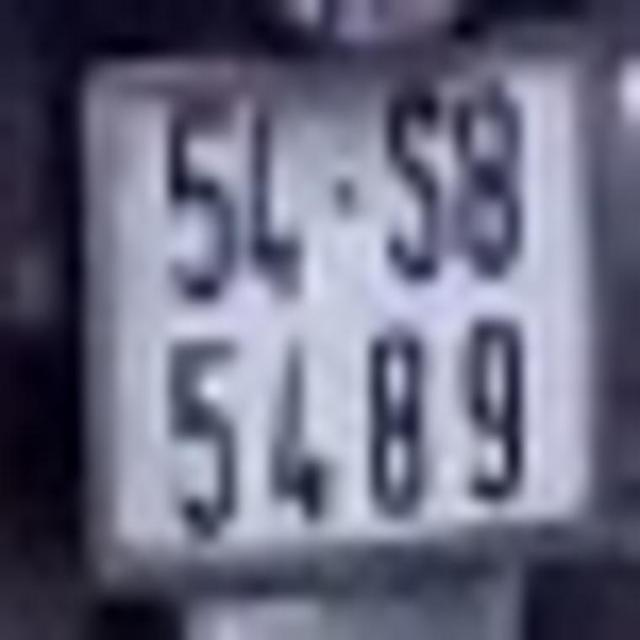4: (264, 334, 340, 530), (246, 105, 317, 305)
5: (163, 335, 240, 542), (164, 96, 238, 304)
8: (452, 81, 528, 280), (367, 320, 432, 521)
9: (464, 314, 530, 506)
S: (377, 80, 442, 282)
